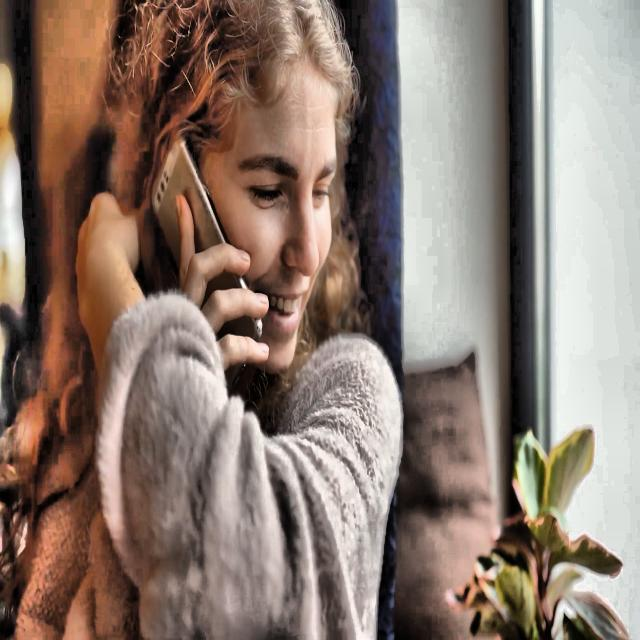Phone: (153, 136, 264, 404)
